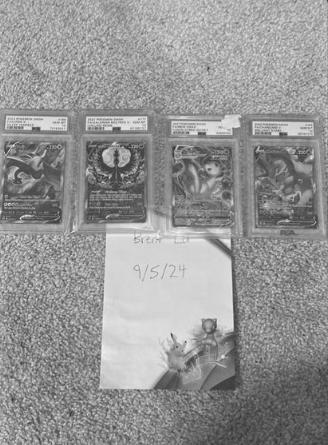card: (1, 139, 68, 226), (253, 143, 320, 229), (171, 142, 237, 228), (83, 137, 147, 223)
